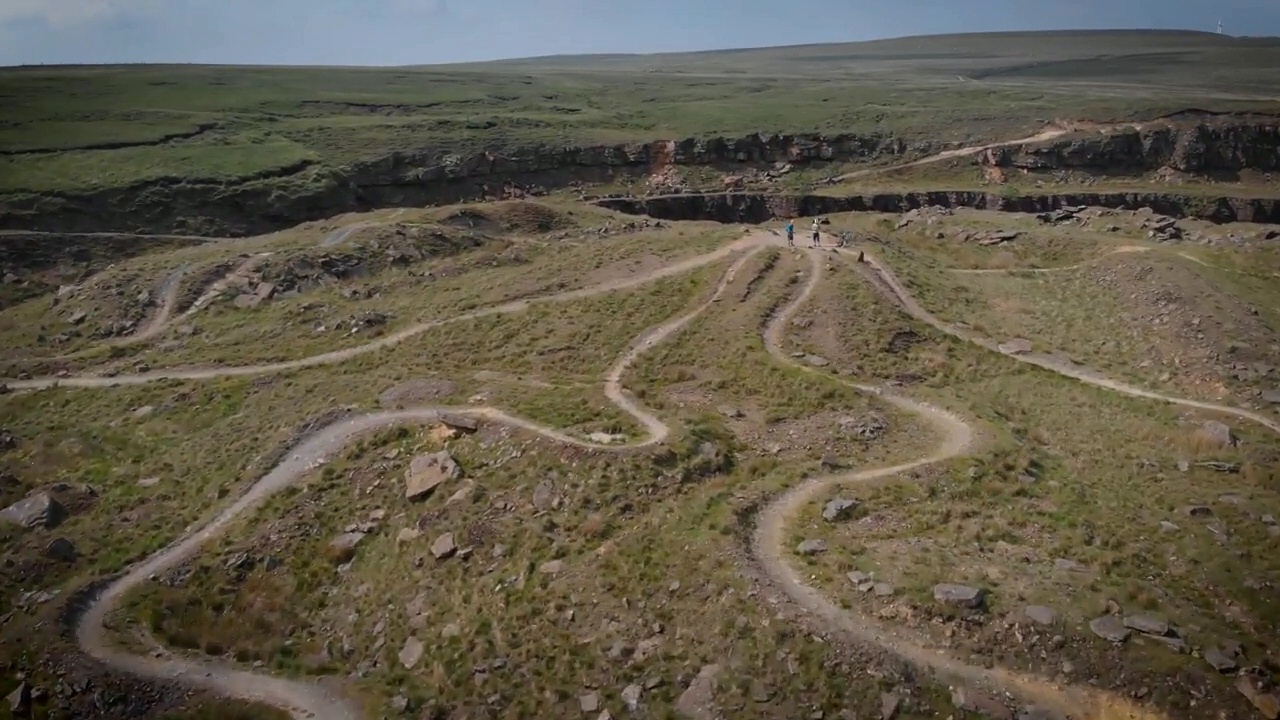insan: (785, 219, 798, 246), (813, 218, 822, 248)
